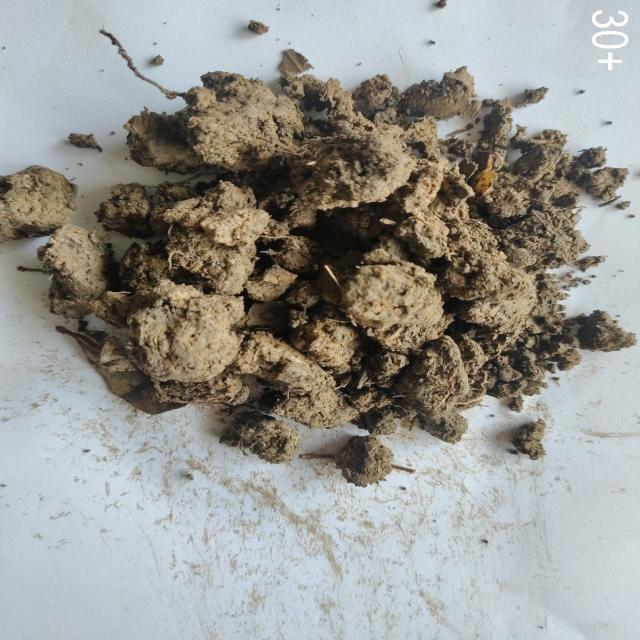soil: (218, 126, 491, 391)
